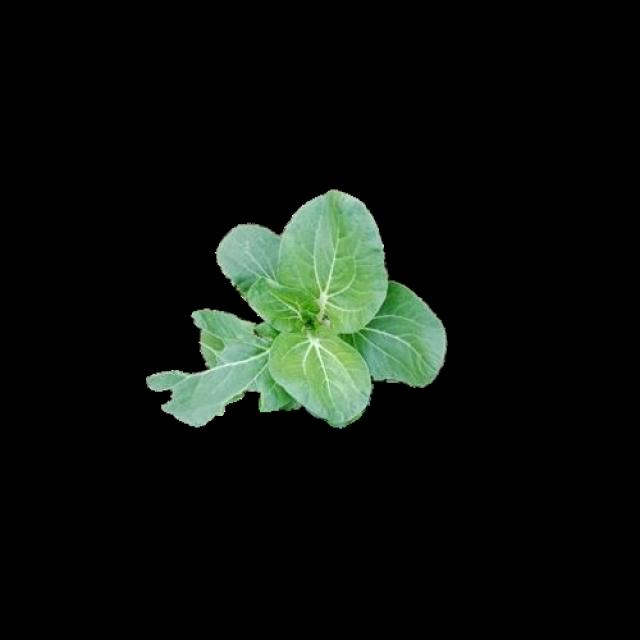not-mature: (142, 191, 447, 425)
unhealthy: (140, 310, 296, 424)
